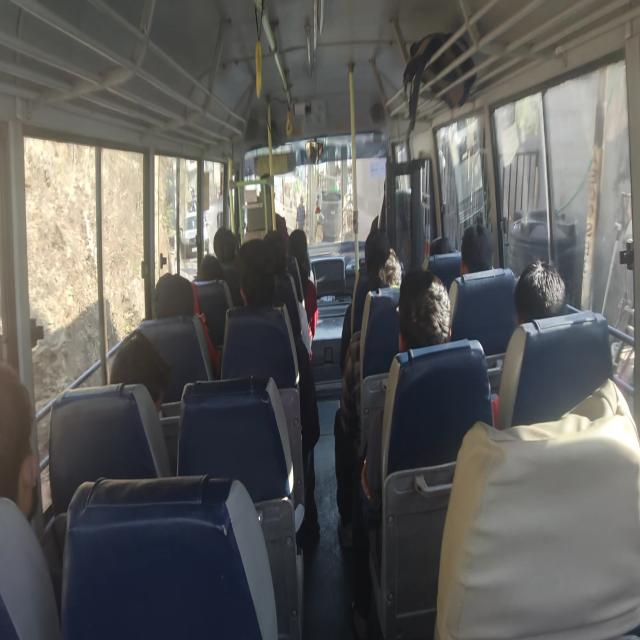person: (0, 395, 76, 587), (113, 337, 174, 426), (514, 249, 570, 330), (398, 270, 454, 344), (232, 240, 276, 324), (154, 264, 189, 335), (188, 236, 222, 308), (456, 218, 496, 276), (375, 252, 409, 304), (259, 222, 291, 276), (282, 223, 314, 272), (424, 229, 459, 268), (212, 233, 238, 266), (368, 232, 387, 260)
